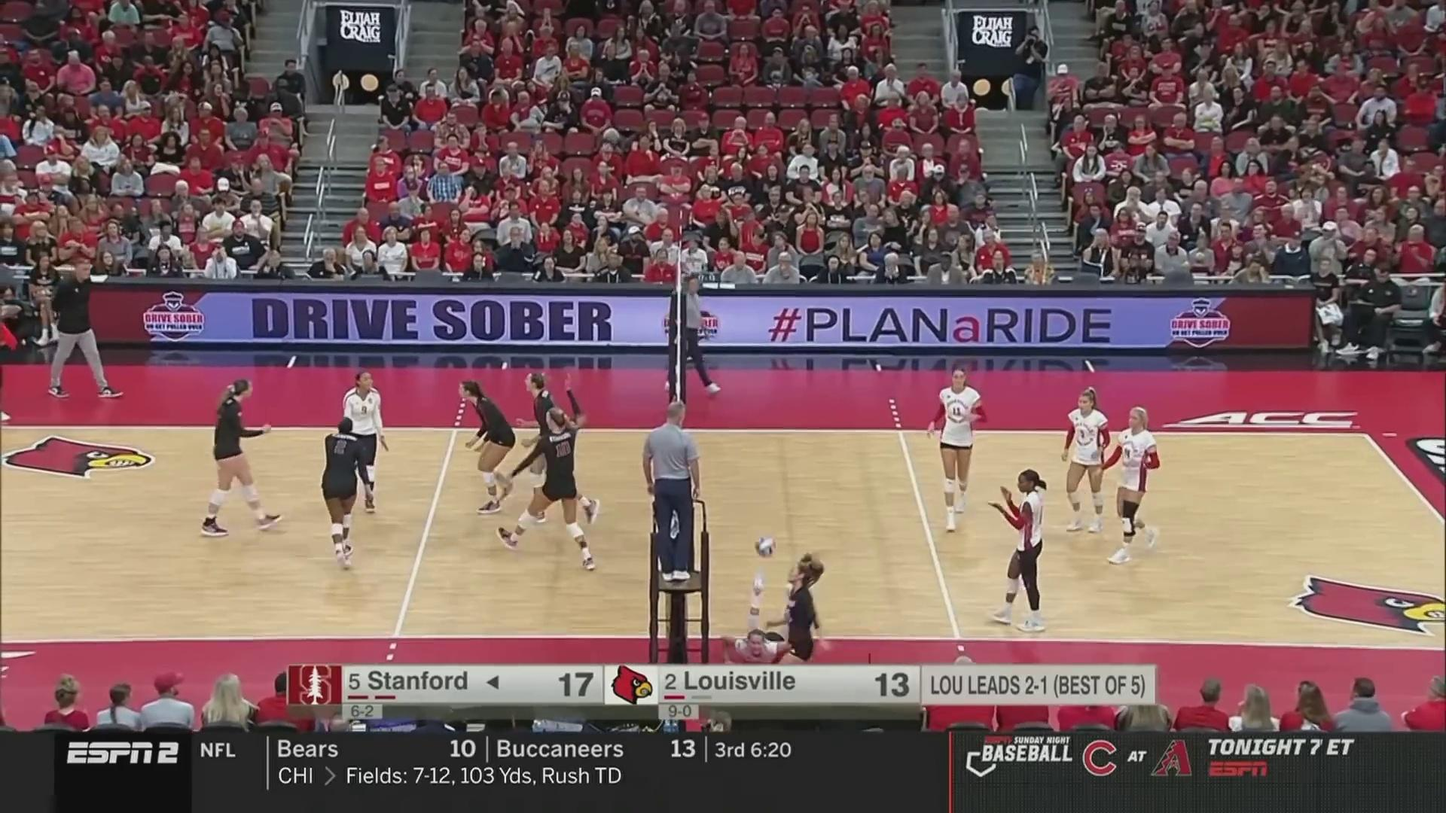player: (502, 404, 598, 572), (520, 371, 598, 525), (200, 381, 277, 535), (992, 472, 1051, 631), (1103, 408, 1159, 565), (456, 382, 518, 517), (321, 415, 375, 568), (775, 557, 827, 714), (933, 367, 981, 533), (334, 365, 384, 512), (1058, 392, 1109, 535), (725, 580, 796, 666)
refree: (646, 395, 701, 582), (667, 274, 718, 391)
